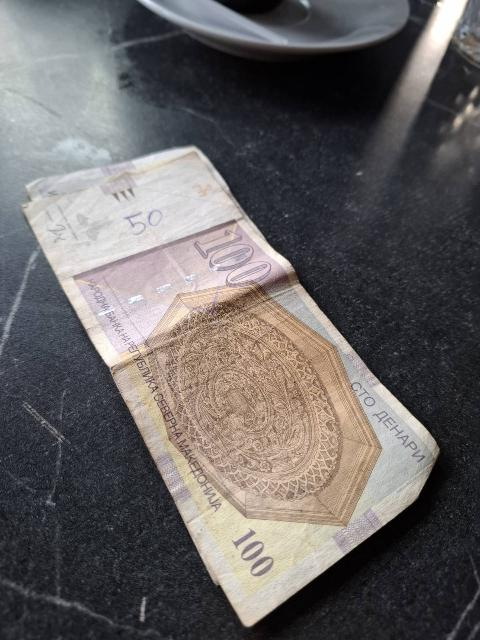100_note: (25, 148, 438, 625)
